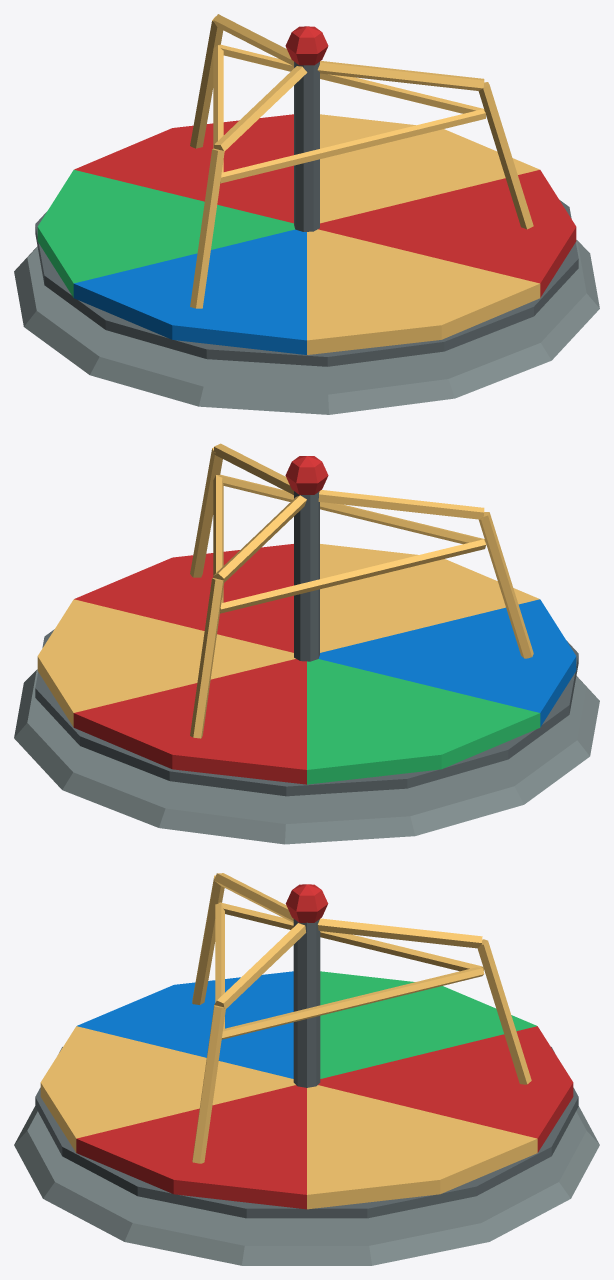
Rendered from karussell.glb.
3 renders of one model, top to bottom at view 1: azimuth 30°, elevation 25°; view 2: azimuth 150°, elevation 25°; view 3: azimuth 270°, elevation 25°, orthographic.
Visible parts, largest first — view 1: dreh-m, karussell-m; view 2: dreh-m, karussell-m; view 3: dreh-m, karussell-m.
Boxes of the visible parts, x1,y1,x2,y2 form: dreh-m: (35, 14, 578, 366); karussell-m: (14, 240, 599, 414); dreh-m: (35, 443, 578, 796); karussell-m: (14, 669, 599, 844); dreh-m: (35, 873, 578, 1218); karussell-m: (14, 1106, 599, 1265).
Size of the model in its own units: 2.14 by 1.08 by 2.2.
